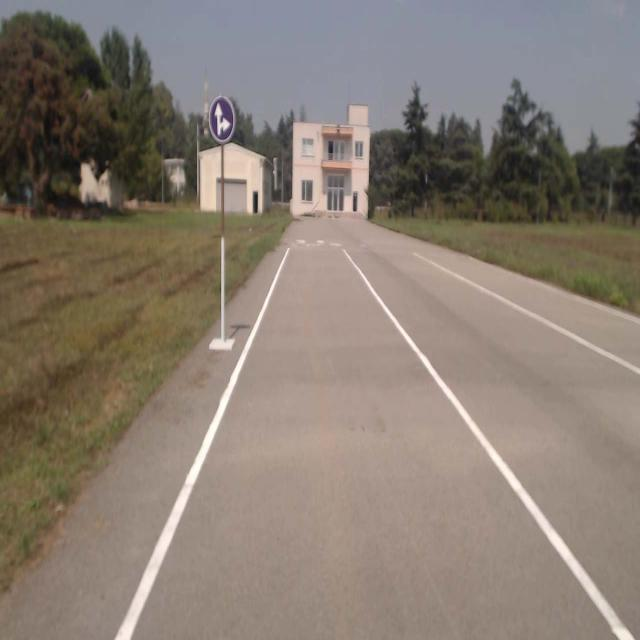ilerisag: (209, 96, 235, 142)
